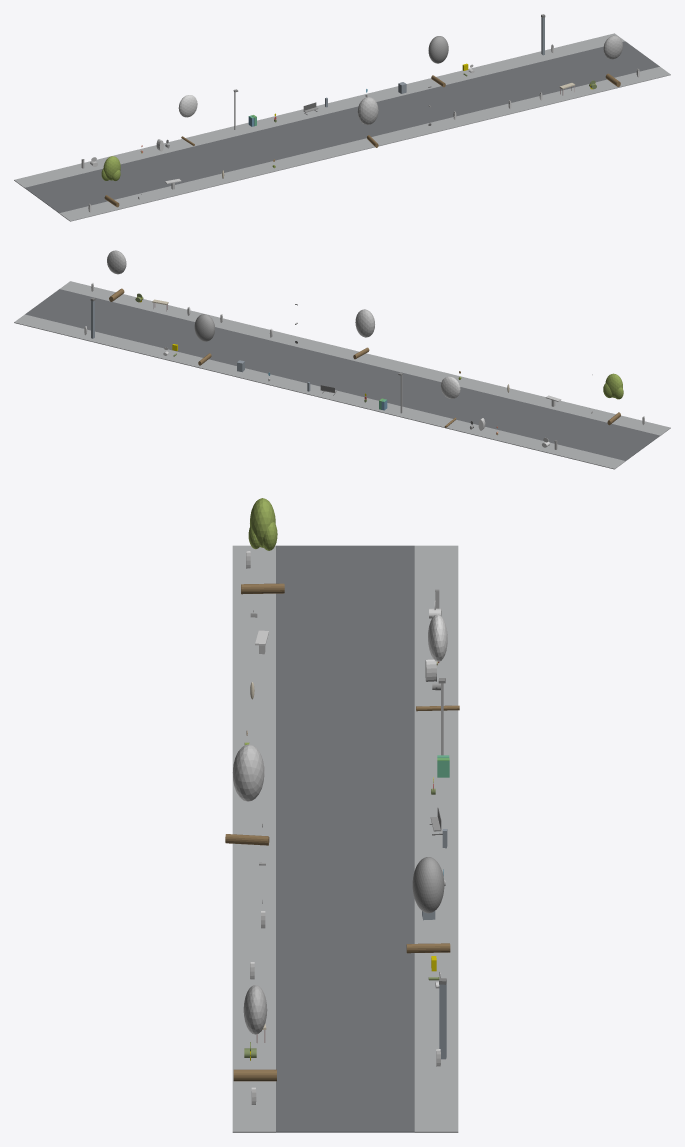
3 views of the same model, one above another, from view 1: azimuth 30°, elevation 25°; view 2: azimuth 150°, elevation 25°; view 3: azimuth 270°, elevation 25° (orthographic). The views are drawn at different scales.
Parts seen in each view (by area): view 1: road_slab, sidewalk_left, sidewalk_right, inst_0014, inst_0015, inst_0012, inst_0016, inst_0013; view 2: road_slab, sidewalk_right, sidewalk_left, inst_0014, inst_0015, inst_0012, inst_0016, inst_0013; view 3: road_slab, sidewalk_right, sidewalk_left, inst_0014, inst_0015, inst_0012, inst_0016, inst_0013.
Part boxes in pixels (x1,y1,x2,y2): road_slab: (25,41,659,213); sidewalk_left: (59,66,670,221); sidewalk_right: (14,33,624,188); inst_0014: (357,97,378,147); inst_0015: (428,36,448,87); inst_0012: (101,156,120,207); inst_0016: (603,35,622,86); inst_0013: (178,95,197,145); road_slab: (25,289,659,461); sidewalk_right: (14,314,625,469); sidewalk_left: (60,281,670,435); inst_0014: (353,309,374,359); inst_0015: (194,314,214,365); inst_0012: (603,373,623,425); inst_0016: (107,250,126,301); inst_0013: (440,376,460,427); road_slab: (276,545,414,1132); sidewalk_right: (414,545,458,1132); sidewalk_left: (232,545,275,1132); inst_0014: (225,744,269,845); inst_0015: (406,857,450,953); inst_0012: (241,498,284,594); inst_0016: (233,985,276,1081); inst_0013: (416,614,459,711).
Bounding box in the file's own units: 80 × 6.08 × 13.51.
